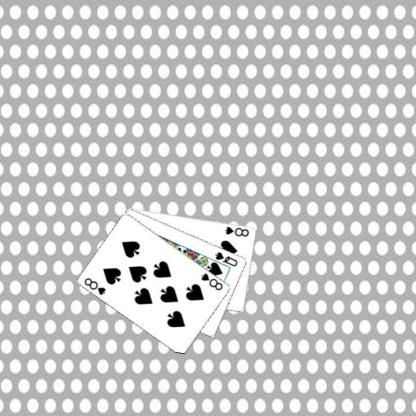8S: (199, 270, 224, 292), (82, 275, 108, 296), (223, 224, 250, 238)
QS: (213, 249, 239, 268)
